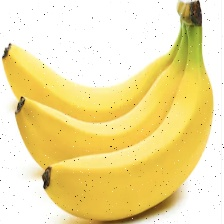banana: (28, 45, 224, 190)
